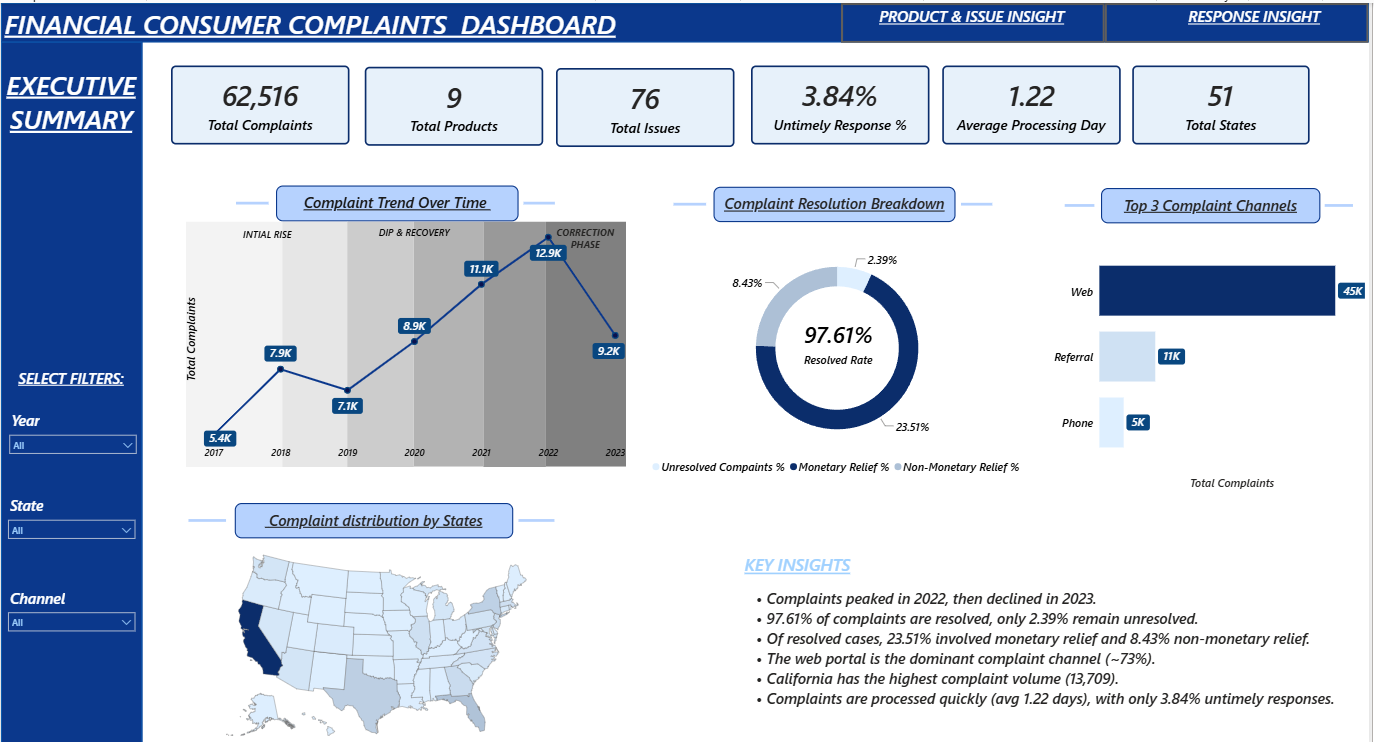

Layout of this report page (visuals, bound fields, positions):
{"tool":"powerbi","page":{"name":"Executive Summary","canvas":[1980,1080],"ordinal":0},"visuals":[{"type":"shape","box":[0,0,1979.8,57],"z":0},{"type":"actionButton","box":[1216.1,0,381.8,57.9],"z":0,"group":"g7"},{"type":"actionButton","box":[1597.9,0,381.8,57.9],"z":0,"group":"g8"},{"type":"card","fields":{"Values":["CountNonNull(fact_complaint.Complaint ID)"]},"box":[246.1,90.5,258.8,114],"z":0,"group":"g6"},{"type":"textbox","box":[398,264.2,351.3,51.7],"z":0,"group":"g1"},{"type":"textbox","box":[1031.2,266,350.6,51],"z":0,"group":"g2"},{"type":"textbox","box":[1592.2,267.8,317.6,51],"z":0,"group":"g4"},{"type":"textbox","box":[337.6,723.9,402.9,51],"z":0,"group":"g3"},{"type":"textbox","box":[0,0,908.4,70.6],"z":1000},{"type":"textbox","box":[1261.2,0,287.7,57.9],"z":1000,"group":"g7"},{"type":"textbox","box":[1675.8,0,276.9,57.9],"z":1000,"group":"g8"},{"type":"card","fields":{"Values":["Count(dim_product.Product)"]},"box":[526.6,92.3,258.8,114],"z":1000,"group":"g6"},{"type":"shape","box":[340.2,269.1,47.4,40.2],"z":1000,"group":"g1"},{"type":"shape","box":[973.6,270.8,47.3,39.7],"z":1000,"group":"g2"},{"type":"shape","box":[1540,272.6,42.9,39.7],"z":1000,"group":"g4"},{"type":"shape","box":[271.4,728.7,54.4,39.7],"z":1000,"group":"g3"},{"type":"card","fields":{"Values":["dim_channel.Untimely Response %"]},"box":[1085.8,90.5,258.8,114],"z":2000,"group":"g6"},{"type":"group","id":"g1","title":"Group 1","box":[340.2,264.2,463.3,52.5],"z":2000},{"type":"shape","box":[757.2,269.5,45.4,40.2],"z":2000,"group":"g1"},{"type":"shape","box":[1389.7,271.2,45.3,39.7],"z":2000,"group":"g2"},{"type":"shape","box":[1917,273,41.1,39.7],"z":2000,"group":"g4"},{"type":"shape","box":[749.6,729.1,52.1,39.7],"z":2000,"group":"g3"},{"type":"card","fields":{"Values":["Count(dim_issue.Issue)"]},"box":[803.5,94.1,258.8,114],"z":3000,"group":"g6"},{"type":"shape","box":[267.6,316.7,139.5,355.1],"z":3000,"group":"g5"},{"type":"donutChart","fields":{"Y":["fact_complaint.Unresolved Compaints %","fact_complaint.Monetary Relief %","fact_complaint.Non-Monetary Relief %"]},"box":[932,340.2,557.4,351.1],"z":3000},{"type":"card","fields":{"Values":["Avg(fact_complaint.Processing Days)"]},"box":[1362.7,90.5,258.8,114],"z":4000,"group":"g6"},{"type":"shape","box":[407.2,316.7,94.7,355.1],"z":4000,"group":"g5"},{"type":"card","fields":{"Values":["fact_complaint.Resolved Rate"]},"box":[1129.2,418,166.5,146.6],"z":4000},{"type":"card","fields":{"Values":["dim_location.Total States"]},"box":[1637.7,90.5,257,114],"z":5000,"group":"g6"},{"type":"group","id":"g2","title":"Group 1","box":[973.6,266,461.5,50.7],"z":5000},{"type":"shape","box":[597,317.1,101.3,354.7],"z":5000,"group":"g5"},{"type":"shape","box":[788.8,317.1,115.8,354.7],"z":6000,"group":"g5"},{"type":"clusteredBarChart","fields":{"Y":["CountNonNull(fact_complaint.Complaint ID)"],"Category":["dim_channel.Submitted via"]},"box":[1518.3,329.4,461.5,380],"z":6000},{"type":"shape","box":[501.8,316.7,96.4,355.1],"z":7000,"group":"g5"},{"type":"group","id":"g3","title":"Group 1","box":[271.4,723.9,530.2,50.7],"z":7000},{"type":"shape","box":[698.4,316.7,90.4,355.1],"z":8000,"group":"g5"},{"type":"shapeMap","fields":{"Value":["CountNonNull(fact_complaint.Complaint ID)"],"Category":["dim_location.State"]},"box":[217.2,780,653.3,300.4],"z":8000},{"type":"group","id":"g4","title":"Group 1","box":[1540,267.8,418,50.7],"z":9000},{"type":"lineChart","fields":{"Y":["CountNonNull(fact_complaint.Complaint ID)"],"Category":["dim_date.Year"]},"box":[262.4,321,646,351.1],"z":9000,"group":"g5"},{"type":"group","id":"g5","title":"Group 2","box":[262.4,316.7,646,355.4],"z":10000},{"type":"textbox","box":[263.5,321,242.5,30.8],"z":10000,"group":"g5"},{"type":"shape","box":[0,56.1,204.5,1024.3],"z":11000},{"type":"textbox","box":[451.7,319.1,287.7,45.2],"z":11000,"group":"g5"},{"type":"group","id":"g6","title":"Group 3","box":[246.1,90.5,1648.6,117.6],"z":12000},{"type":"textbox","box":[786.2,318.6,121.2,50.7],"z":12000,"group":"g5"},{"type":"slicer","fields":{"Values":["dim_date.Year"]},"box":[1.8,584.5,204.5,70.6],"z":13000},{"type":"slicer","fields":{"Values":["dim_location.State"]},"box":[0,707.6,204.5,70.6],"z":14000},{"type":"slicer","fields":{"Values":["dim_channel.Submitted via"]},"box":[0,841.5,204.5,70.6],"z":15000},{"type":"textbox","box":[0,523,202.7,45.2],"z":16000},{"type":"textbox","box":[0,70.6,202.7,190],"z":17000},{"type":"group","id":"g7","title":"Group 4","box":[1216.1,0,381.8,57.9],"z":18000},{"type":"group","id":"g8","title":"Group 5","box":[1597.9,0,381.8,57.9],"z":19000},{"type":"textbox","box":[1071.3,792.6,886.7,238.9],"z":20000}]}

Visuals, with their boxes in screenshot pixels (x1, y1, x2, y2), scaled from the page's 1980x1080 canvas onto the 1374x742 screenshot:
shape: bbox=(0, 0, 1373, 39)
actionButton: bbox=(844, 0, 1109, 40)
actionButton: bbox=(1109, 0, 1373, 40)
card - CountNonNull(fact_complaint.Complaint ID): bbox=(171, 62, 350, 140)
textbox: bbox=(276, 182, 520, 217)
textbox: bbox=(716, 183, 959, 218)
textbox: bbox=(1105, 184, 1325, 219)
textbox: bbox=(234, 497, 514, 532)
textbox: bbox=(0, 0, 630, 49)
textbox: bbox=(875, 0, 1075, 40)
textbox: bbox=(1163, 0, 1355, 40)
card - Count(dim_product.Product): bbox=(365, 63, 545, 142)
shape: bbox=(236, 185, 269, 213)
shape: bbox=(676, 186, 708, 213)
shape: bbox=(1069, 187, 1098, 215)
shape: bbox=(188, 501, 226, 528)
card - dim_channel.Untimely Response %: bbox=(753, 62, 933, 140)
"Group 1" group: bbox=(236, 182, 558, 218)
shape: bbox=(525, 185, 557, 213)
shape: bbox=(964, 186, 996, 214)
shape: bbox=(1330, 188, 1359, 215)
shape: bbox=(520, 501, 556, 528)
card - Count(dim_issue.Issue): bbox=(558, 65, 737, 143)
shape: bbox=(186, 218, 283, 462)
donutChart - fact_complaint.Unresolved Compaints % x fact_complaint.Monetary Relief %: bbox=(647, 234, 1034, 475)
card - Avg(fact_complaint.Processing Days): bbox=(946, 62, 1125, 140)
shape: bbox=(283, 218, 348, 462)
card - fact_complaint.Resolved Rate: bbox=(784, 287, 899, 388)
card - dim_location.Total States: bbox=(1136, 62, 1315, 140)
"Group 1" group: bbox=(676, 183, 996, 218)
shape: bbox=(414, 218, 485, 462)
shape: bbox=(547, 218, 628, 462)
clusteredBarChart - CountNonNull(fact_complaint.Complaint ID) x dim_channel.Submitted via: bbox=(1054, 226, 1373, 487)
shape: bbox=(348, 218, 415, 462)
"Group 1" group: bbox=(188, 497, 556, 532)
shape: bbox=(485, 218, 547, 462)
shapeMap - CountNonNull(fact_complaint.Complaint ID) x dim_location.State: bbox=(151, 536, 604, 741)
"Group 1" group: bbox=(1069, 184, 1359, 219)
lineChart - CountNonNull(fact_complaint.Complaint ID) x dim_date.Year: bbox=(182, 221, 630, 462)
"Group 2" group: bbox=(182, 218, 630, 462)
textbox: bbox=(183, 221, 351, 242)
shape: bbox=(0, 39, 142, 741)
textbox: bbox=(313, 219, 513, 250)
"Group 3" group: bbox=(171, 62, 1315, 143)
textbox: bbox=(546, 219, 630, 254)
slicer - dim_date.Year: bbox=(1, 402, 143, 450)
slicer - dim_location.State: bbox=(0, 486, 142, 535)
slicer - dim_channel.Submitted via: bbox=(0, 578, 142, 627)
textbox: bbox=(0, 359, 141, 390)
textbox: bbox=(0, 49, 141, 179)
"Group 4" group: bbox=(844, 0, 1109, 40)
"Group 5" group: bbox=(1109, 0, 1373, 40)
textbox: bbox=(743, 545, 1359, 709)
